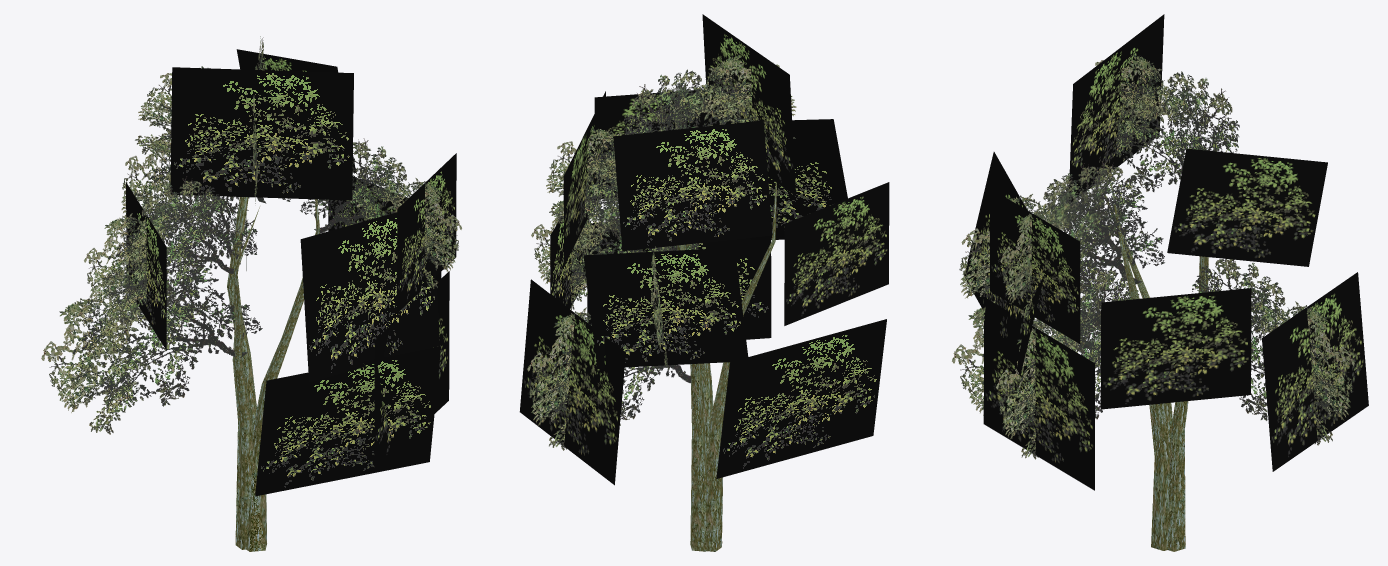
Rendered from stage-newy-p5-240.glb.
The picture shows the model from 3 angles, left to right: view 1: azimuth 30°, elevation 25°; view 2: azimuth 150°, elevation 25°; view 3: azimuth 270°, elevation 25°; orthographic projection. The views are drawn at different scales.
Size of the model in its own units: 16.74 by 20.86 by 17.26.
3 materials, 3 textured.
